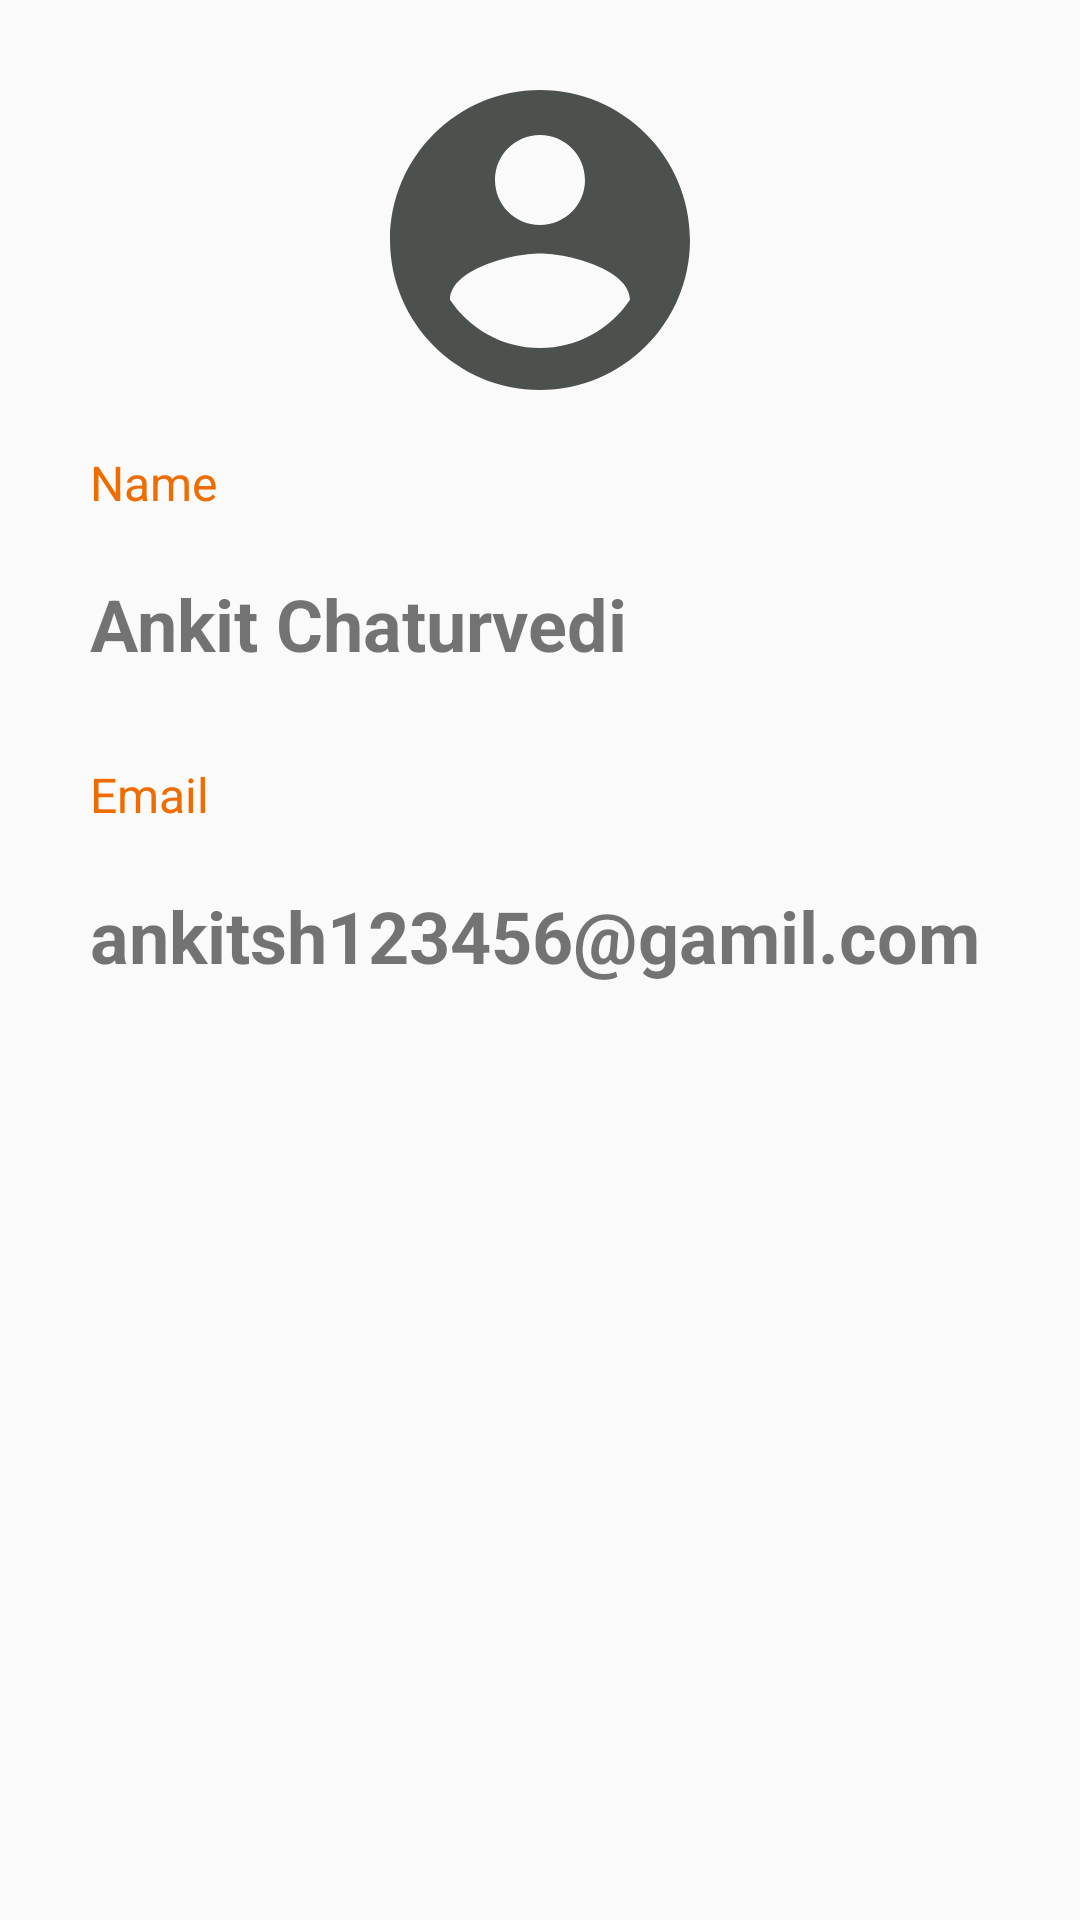

Locate icon controls on the screen. Image size 1080×1920, boxes as (x1, y1, x2, y2).
profile: (390, 90, 690, 390)
